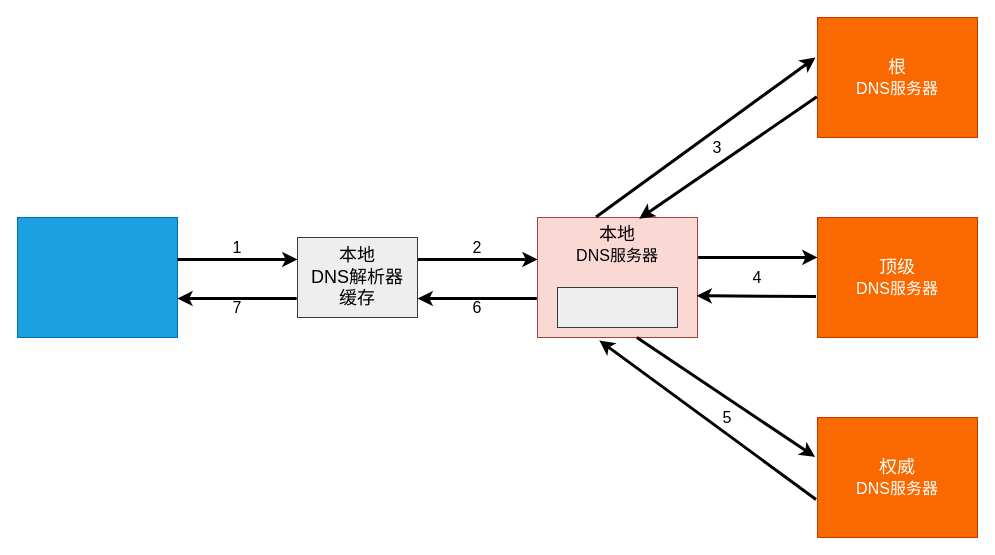
The diagram is 995 pixels wide and 555 high, and some of its shapes have lost their labels. The shapes that lost their labels are listed below. From the top down, each one's centre as x and y in pixels, then its label:
pixel 97 277: 客户端
pixel 617 307: 缓存
